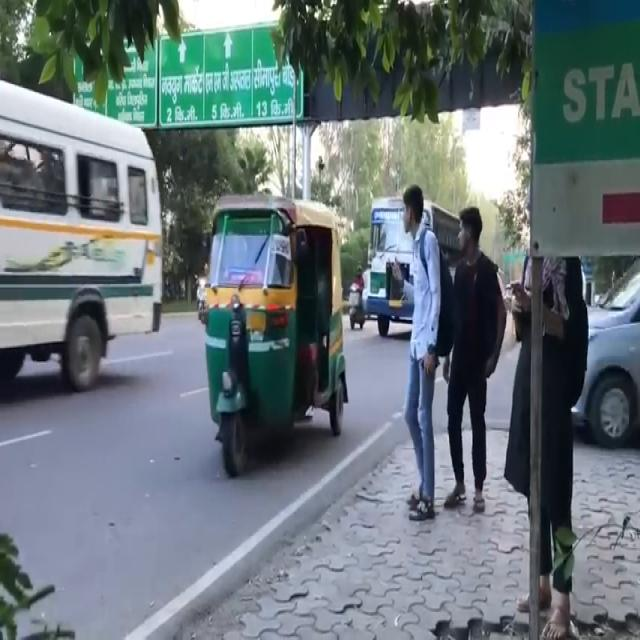BUS: (0, 77, 163, 397)
